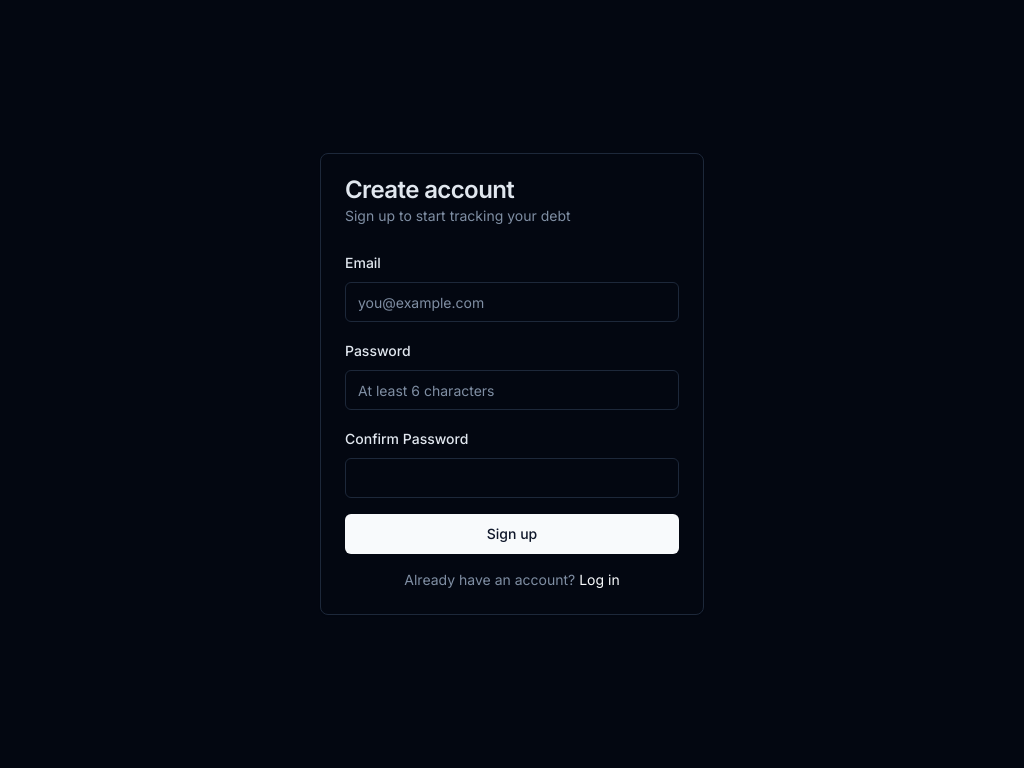
Test: RegisterPage › redirects to dashboard after successful registration
The width and height of the screenshot is (1024, 768).
Expected: the heading "Create account" is shown, [345, 175, 514, 204]
Type "new@example.com" into the field labelled "Email".
click(512, 302); type("new@example.com")  # box [345, 282, 679, 322]
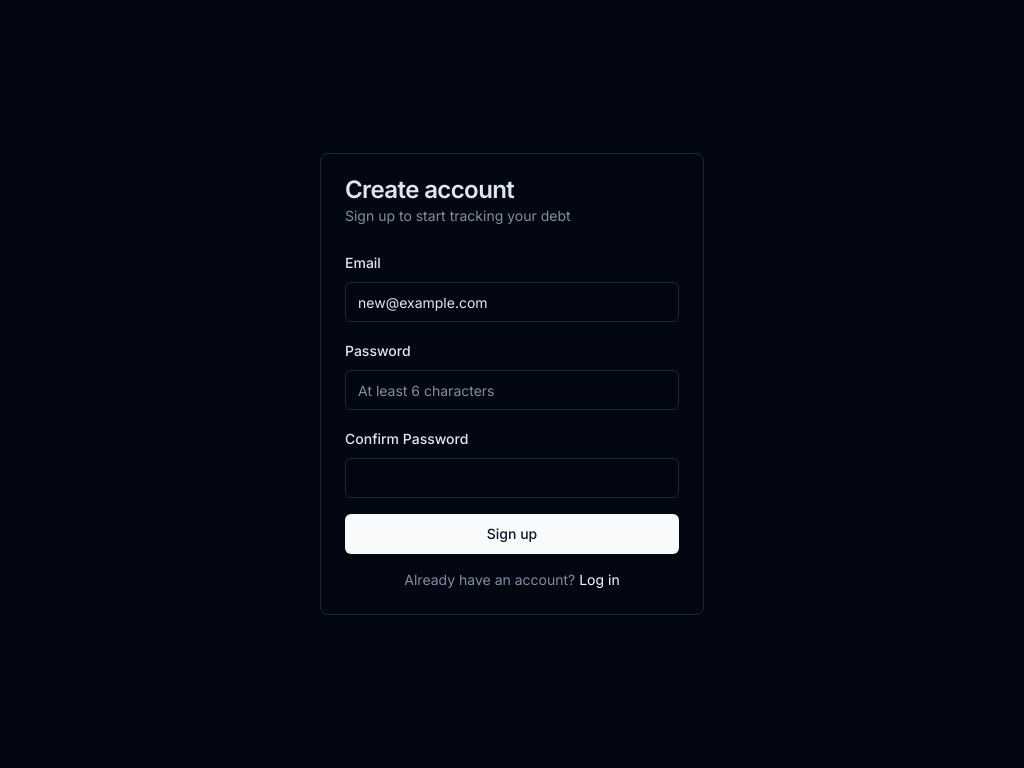
Type "password123" into the password field labelled "Password".
click(512, 390); type("password123")  # box [345, 370, 679, 410]
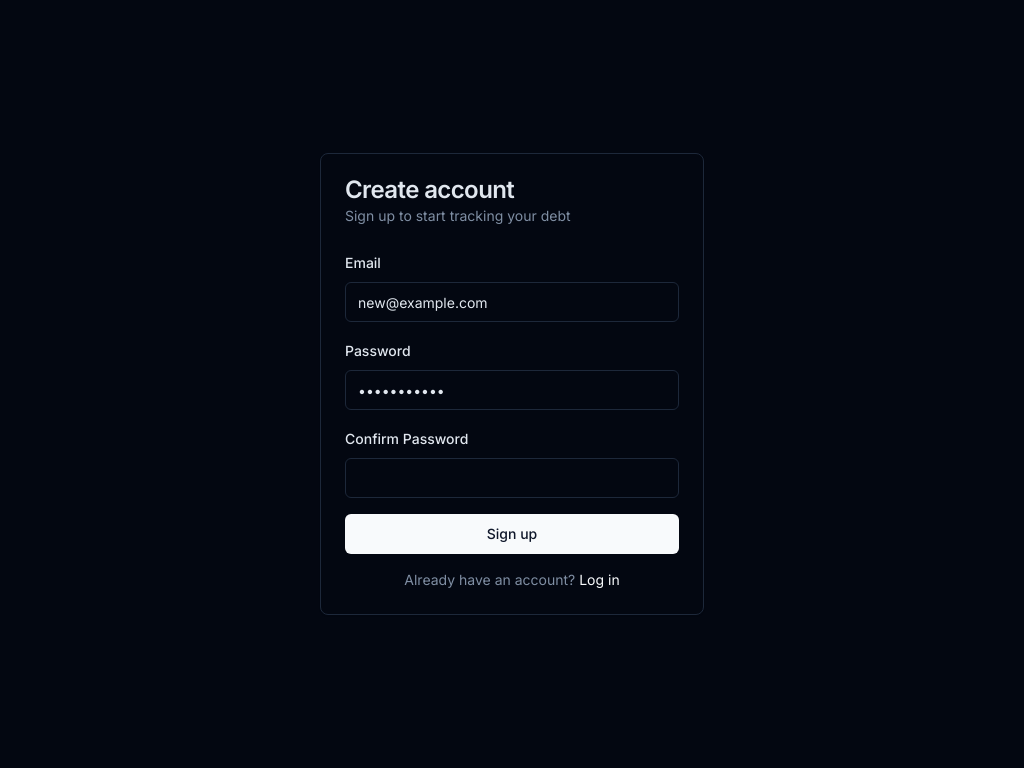
Type "password123" into the password field labelled "Confirm Password".
click(512, 478); type("password123")  # box [345, 458, 679, 498]
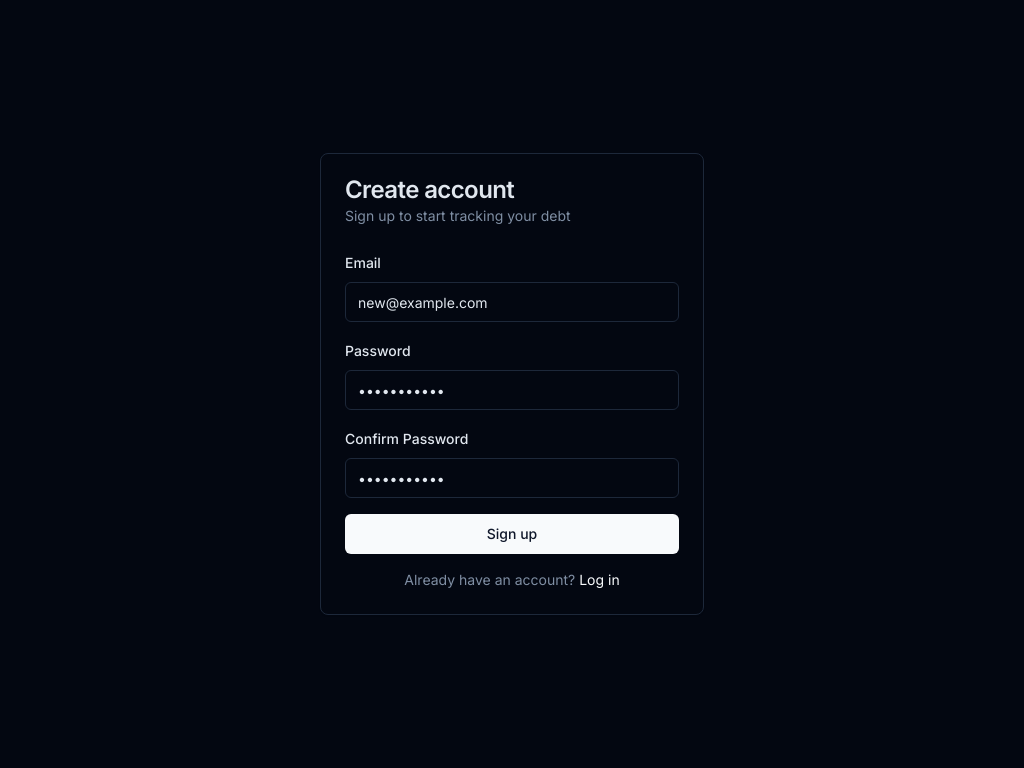
Click the button "Sign up".
click(512, 534)  # box [345, 514, 679, 554]
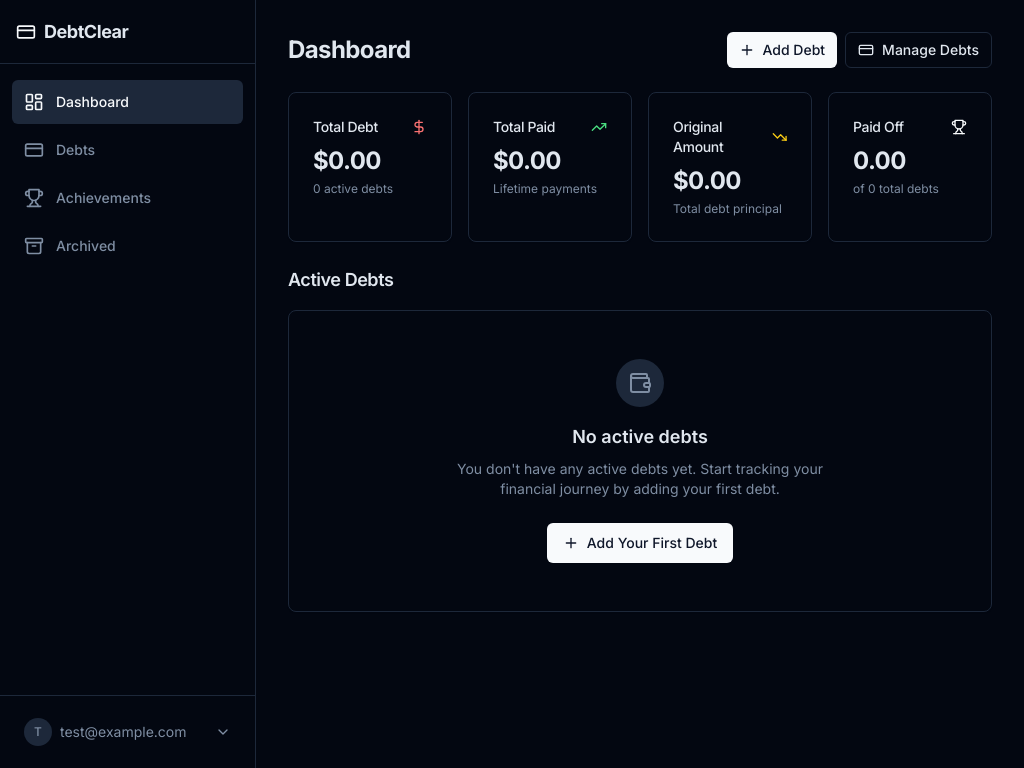
Now the heading "Dashboard" is shown, box [288, 34, 411, 66]
